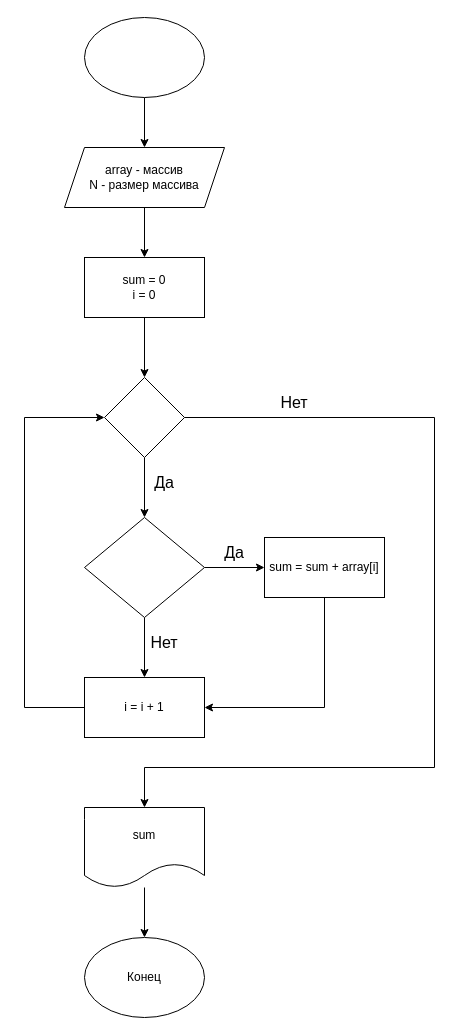
This 460x1035 diagram has some shape labels left out. Each missing label, with the box of its shape:
array[i] % 2 != 0: (84, 516, 204, 618)
i < N: (104, 376, 184, 458)
Начало: (84, 16, 204, 98)
